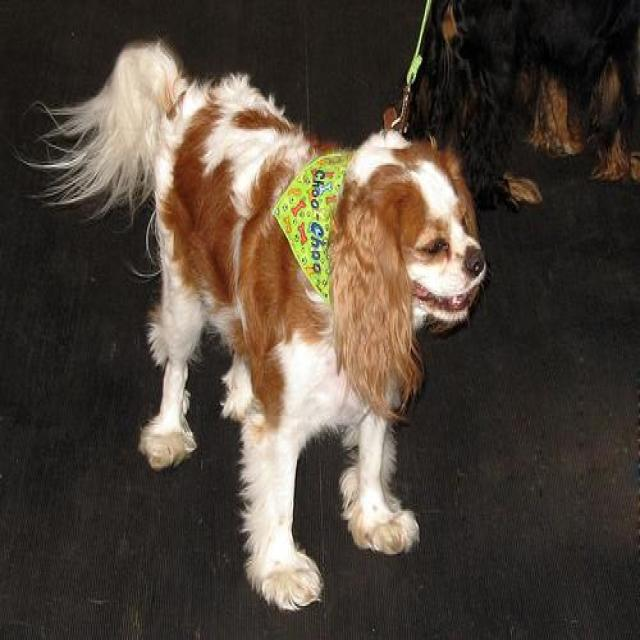blenheim_spaniel: (19, 38, 492, 615)
